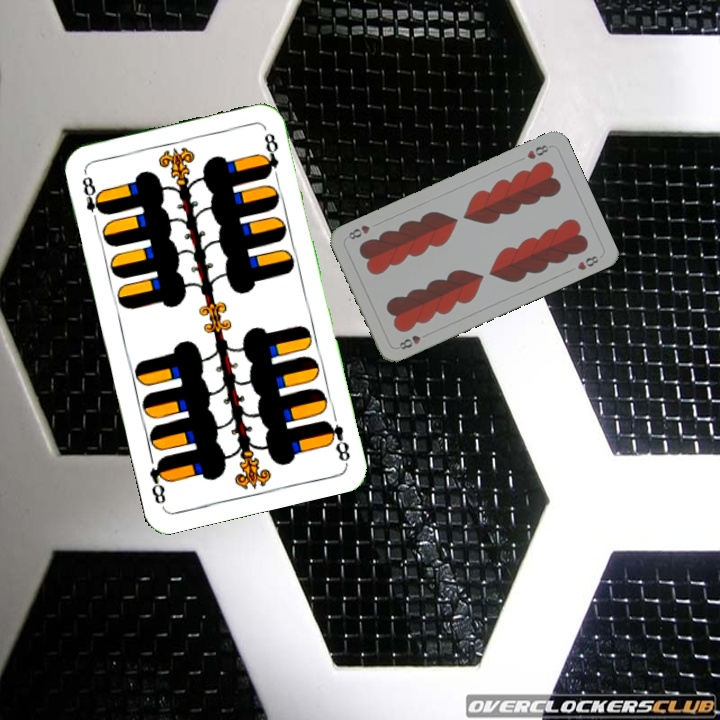E8: (78, 168, 108, 227), (320, 416, 353, 466)
H8: (395, 329, 431, 352), (523, 141, 553, 162)
